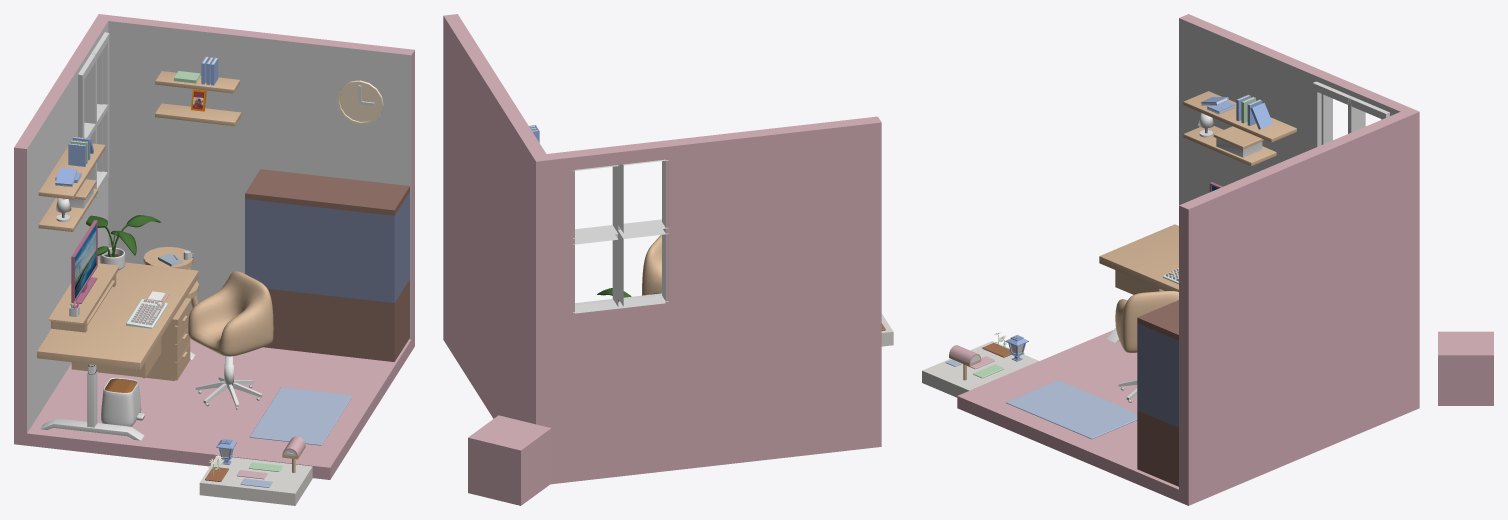
Rendered from 0922_practice_demo_01.glb.
3 renders of one model, left to right at view 1: azimuth 30°, elevation 25°; view 2: azimuth 150°, elevation 25°; view 3: azimuth 270°, elevation 25°, orthographic. The views are drawn at different scales.
Parts seen in each view (by area): view 1: Body, Aquarium, Desks, FloorItems, Shelves, Chair, TableStuff, MiniFloor, Clock, Computer, MailBox; view 2: Body, Cube, Chair; view 3: Body, Aquarium, Shelves, Cube, FloorItems, Desks, MiniFloor, Chair.
Part boxes in pixels (<box>): Body: <box>14,14,414,479</box>; Aquarium: <box>245,169,409,361</box>; Desks: <box>37,246,198,440</box>; FloorItems: <box>71,298,352,445</box>; Shelves: <box>38,56,241,231</box>; Chair: <box>188,271,273,356</box>; TableStuff: <box>48,215,193,332</box>; MiniFloor: <box>199,455,312,505</box>; Clock: <box>337,80,383,124</box>; Computer: <box>71,220,97,303</box>; MailBox: <box>282,436,305,472</box>; Body: <box>443,14,881,484</box>; Cube: <box>468,415,551,505</box>; Chair: <box>642,235,661,295</box>; Body: <box>957,14,1419,505</box>; Aquarium: <box>1137,300,1178,486</box>; Shelves: <box>1183,91,1296,166</box>; Cube: <box>1438,331,1493,405</box>; FloorItems: <box>1006,379,1137,439</box>; Desks: <box>1099,224,1178,342</box>; MiniFloor: <box>922,341,1038,397</box>; Chair: <box>1115,291,1178,352</box>.
Bounding box in the file's own units: 12.05 × 8.53 × 14.89.
Materials: 42 (2 with a texture image).
